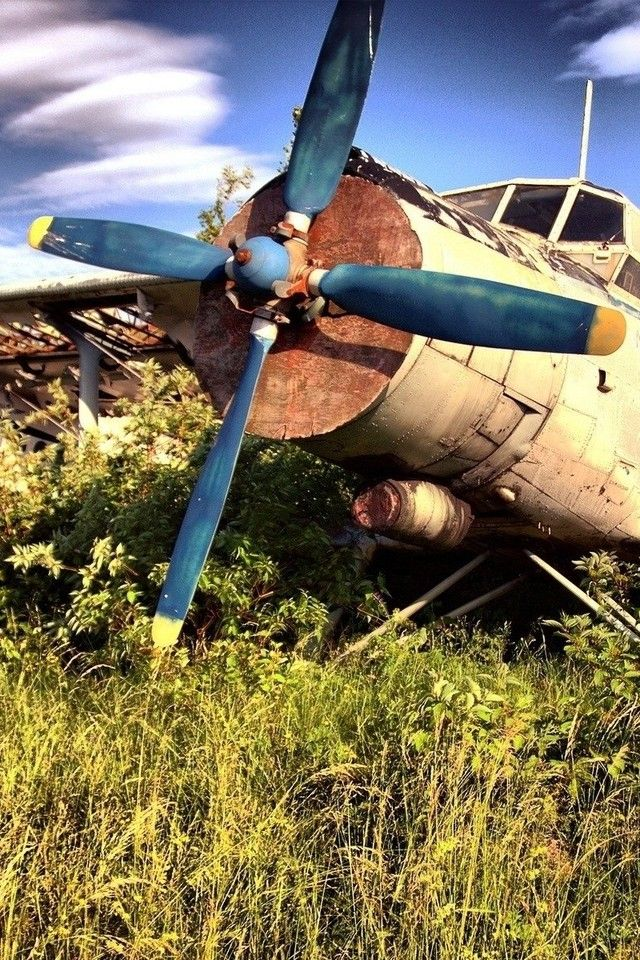rust: (288, 344, 363, 412), (338, 210, 407, 262), (197, 315, 239, 376), (360, 492, 398, 517)
